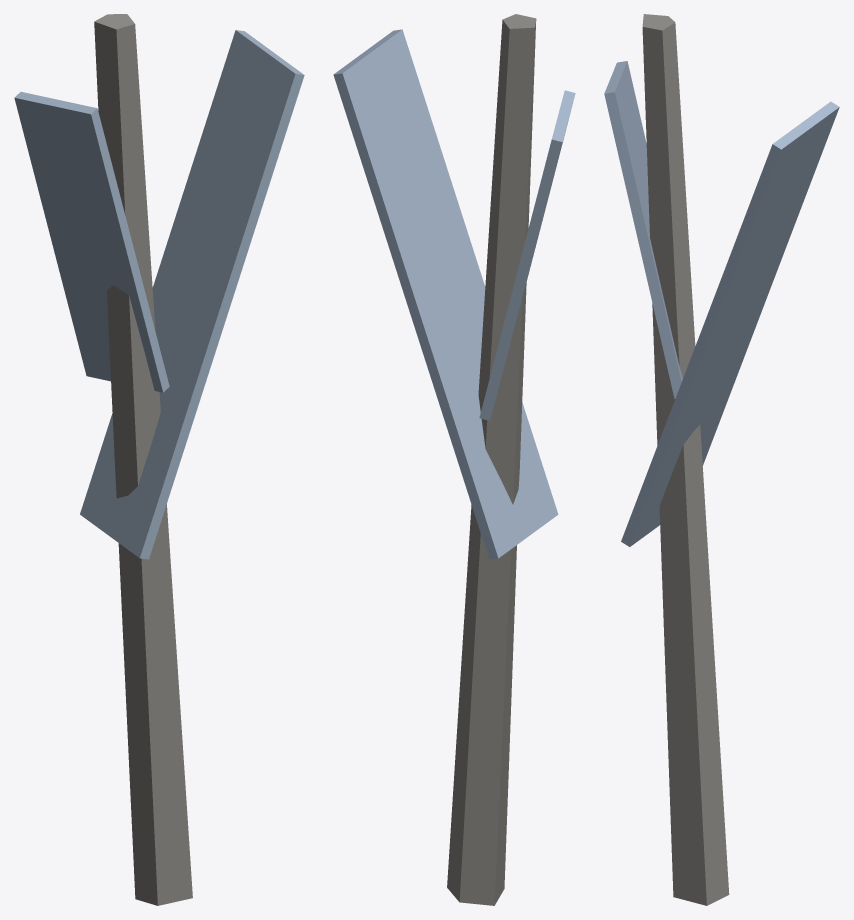
Rendered from prop_khadag_post.glb.
The picture shows the model from 3 angles, left to right: view 1: azimuth 30°, elevation 25°; view 2: azimuth 150°, elevation 25°; view 3: azimuth 330°, elevation 25°; orthographic projection. The views are drawn at different scales.
Visible parts, largest first — view 1: prop_khadag_post_mesh; view 2: prop_khadag_post_mesh; view 3: prop_khadag_post_mesh.
Part boxes in pixels (x1,y1,x2,y2): prop_khadag_post_mesh: (14,14,304,905); prop_khadag_post_mesh: (333,14,575,905); prop_khadag_post_mesh: (604,14,839,905).
Size of what is drawn, in the model's own units: 0.7079 by 2.61 by 0.3356.
